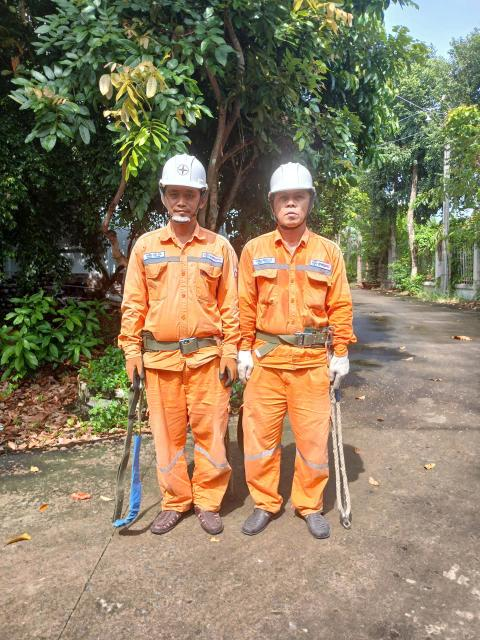gloves: (127, 347, 156, 397), (200, 354, 240, 386), (232, 345, 256, 386), (330, 350, 348, 391)
harness: (239, 317, 338, 356), (136, 322, 224, 356)
helmet: (155, 145, 212, 202), (256, 157, 325, 198)
shoes: (247, 494, 292, 533), (152, 499, 188, 535), (193, 505, 232, 535), (296, 511, 334, 539)
